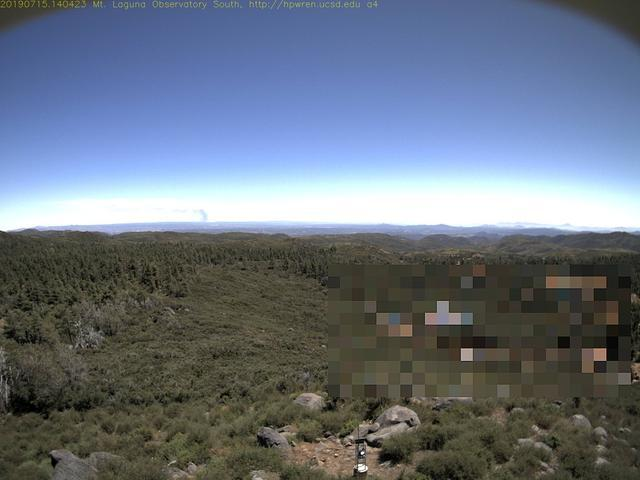smoke: (179, 205, 207, 229)
